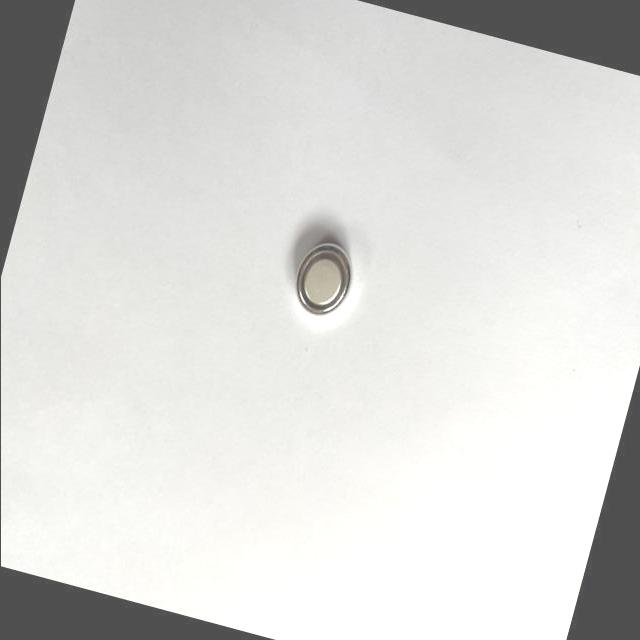COIN: (286, 234, 360, 322)
